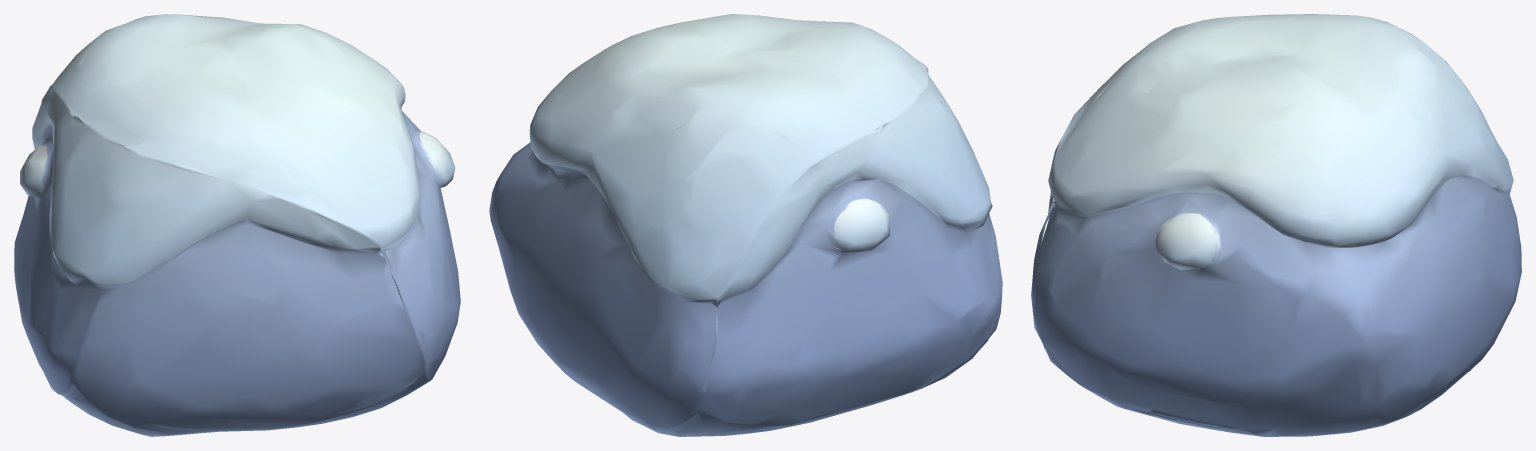
The model's file is rock-boulder.glb.
The picture shows the model from 3 angles, left to right: view 1: azimuth 30°, elevation 25°; view 2: azimuth 150°, elevation 25°; view 3: azimuth 270°, elevation 25°; orthographic projection. The views are drawn at different scales.
Visible parts, largest first — view 1: tripo_node_a8cb65f7-3bab-492a-80ea-4dde2c3acc28; view 2: tripo_node_a8cb65f7-3bab-492a-80ea-4dde2c3acc28; view 3: tripo_node_a8cb65f7-3bab-492a-80ea-4dde2c3acc28.
Boxes of the visible parts, bbox=[...] form: tripo_node_a8cb65f7-3bab-492a-80ea-4dde2c3acc28: bbox=[14, 14, 460, 436]; tripo_node_a8cb65f7-3bab-492a-80ea-4dde2c3acc28: bbox=[489, 14, 1002, 436]; tripo_node_a8cb65f7-3bab-492a-80ea-4dde2c3acc28: bbox=[1031, 14, 1521, 436].
Size of the model in its own units: 1.1 by 0.7986 by 1.1.
Materials: 1 (1 with a texture image).
